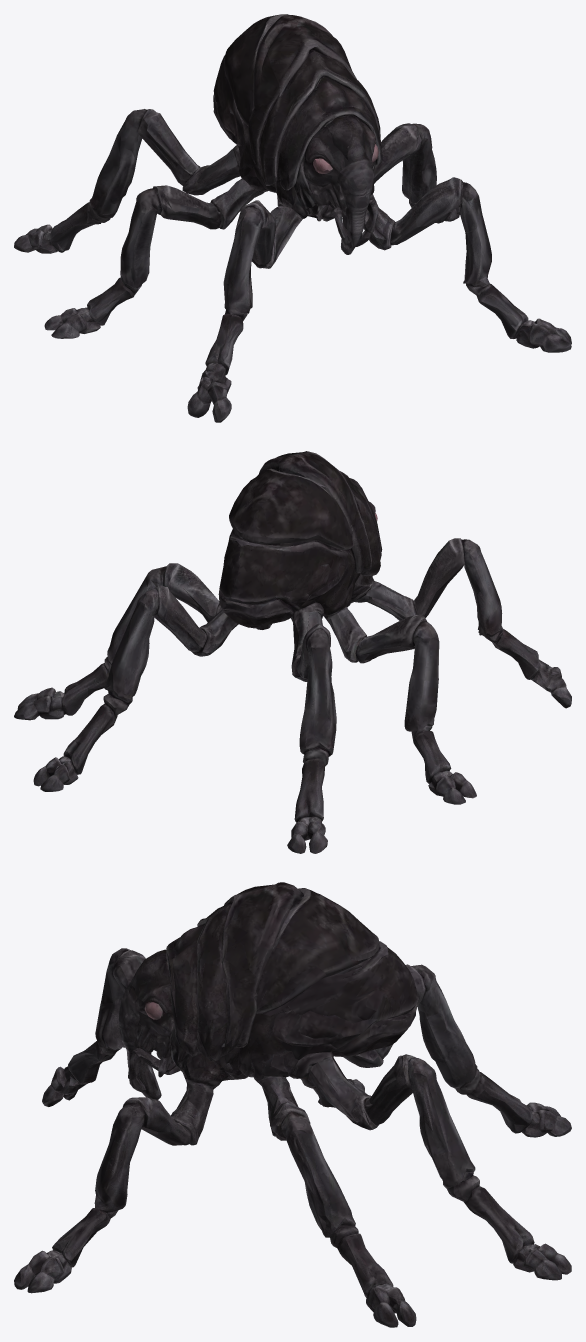
File: lavaflea.glb
The picture shows the model from 3 angles, top to bottom: view 1: azimuth 30°, elevation 25°; view 2: azimuth 150°, elevation 25°; view 3: azimuth 270°, elevation 25°; orthographic projection. The views are drawn at different scales.
Parts seen in each view (by area): view 1: lavaflea-centred; view 2: lavaflea-centred; view 3: lavaflea-centred.
Part boxes in pixels (x1,y1,x2,y2): lavaflea-centred: (14,14,571,422); lavaflea-centred: (14,451,571,853); lavaflea-centred: (14,882,571,1327).
Bounding box in the file's own units: 8.27 × 5 × 7.98.
Materials: 1 (1 with a texture image).
